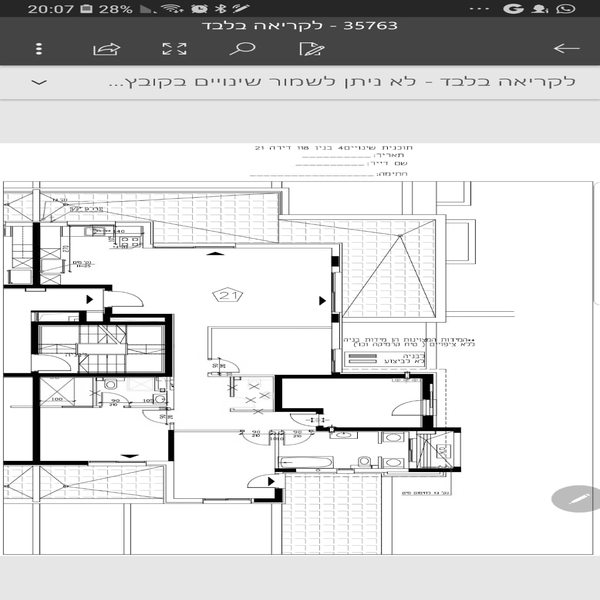door: (210, 350, 246, 381), (394, 393, 433, 421), (101, 287, 148, 308), (24, 355, 71, 374), (246, 474, 294, 492), (282, 427, 317, 450), (142, 402, 171, 429), (100, 384, 127, 410), (287, 411, 328, 427), (239, 424, 273, 443)
room: (28, 367, 178, 465), (267, 368, 437, 428), (265, 425, 467, 474), (32, 218, 155, 292), (31, 319, 174, 376)
wall: (317, 425, 464, 440), (29, 320, 172, 334), (6, 369, 170, 381), (273, 373, 436, 384), (29, 371, 44, 464), (5, 458, 88, 472), (162, 314, 179, 375), (30, 222, 45, 289), (411, 462, 463, 476), (33, 284, 111, 293), (27, 324, 45, 355), (270, 404, 325, 414), (163, 431, 178, 462), (273, 373, 281, 410)
window: (327, 267, 348, 314), (91, 458, 147, 472), (202, 494, 253, 509), (327, 345, 345, 375)
